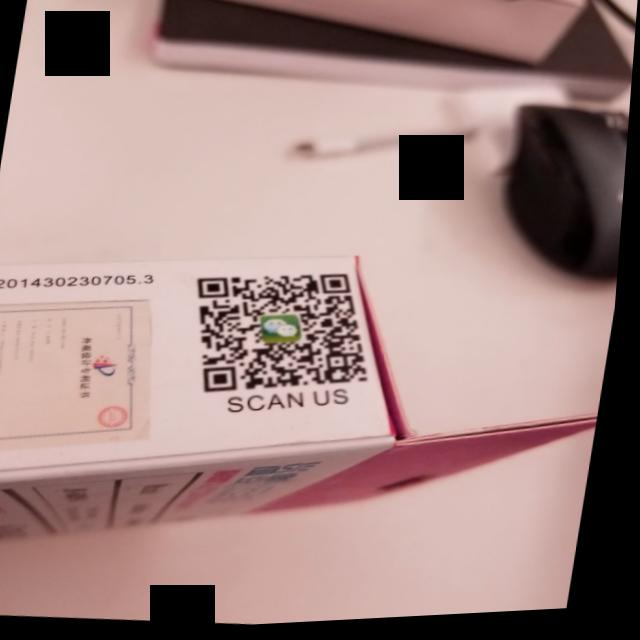QR_CODE: (173, 250, 404, 418)
